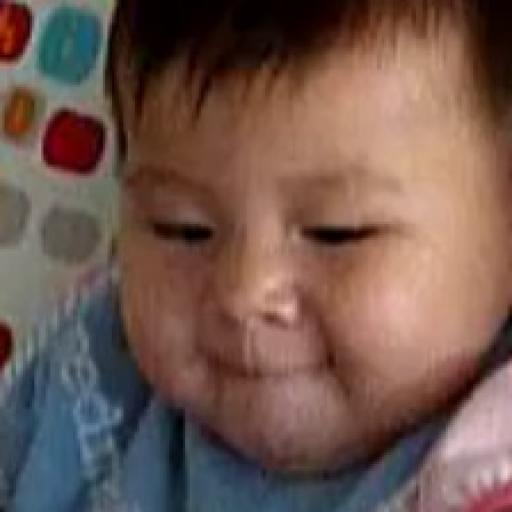Autism: (77, 29, 509, 512)
